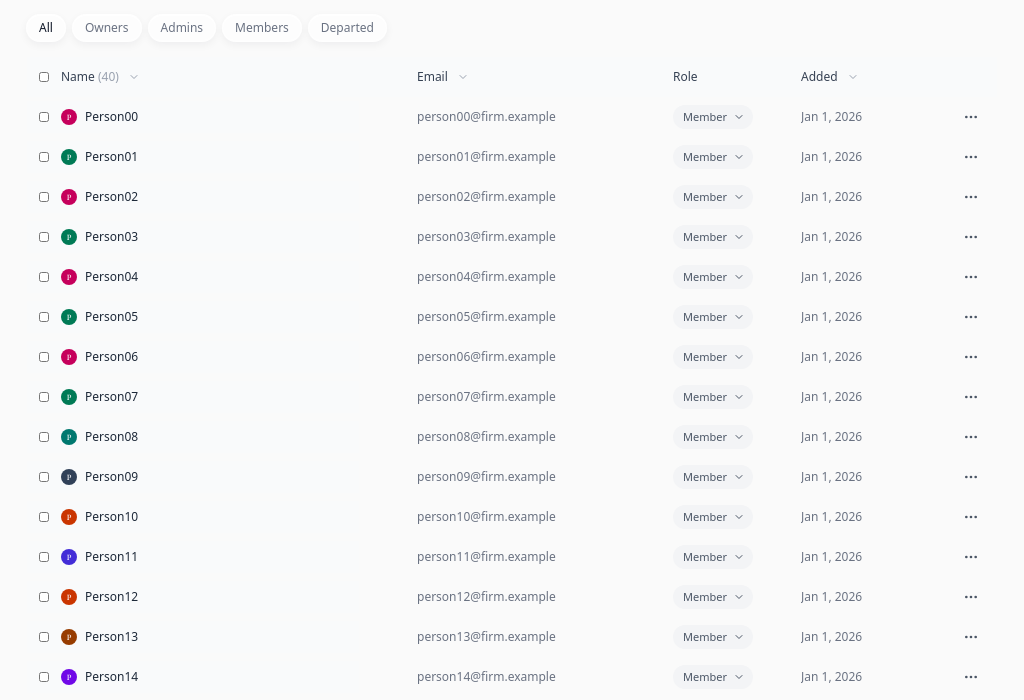
it: OrganizationMembers › the roster's order and pages › selects everyone who matches, drawn or not
Expected: the text "Person00" is shown, [85, 109, 138, 125]
Click the checkbox named "Select all people" at (44, 77), box [39, 72, 49, 82]
(page scrolled)
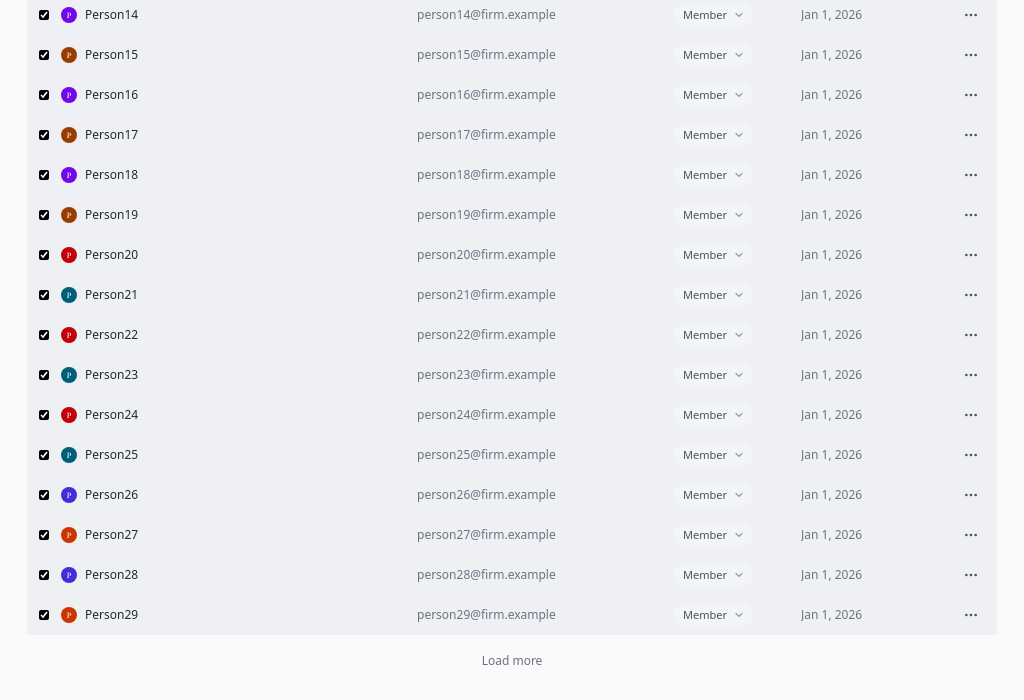
Click the button "Load more" at (512, 661), box [470, 647, 554, 675]
(page scrolled)
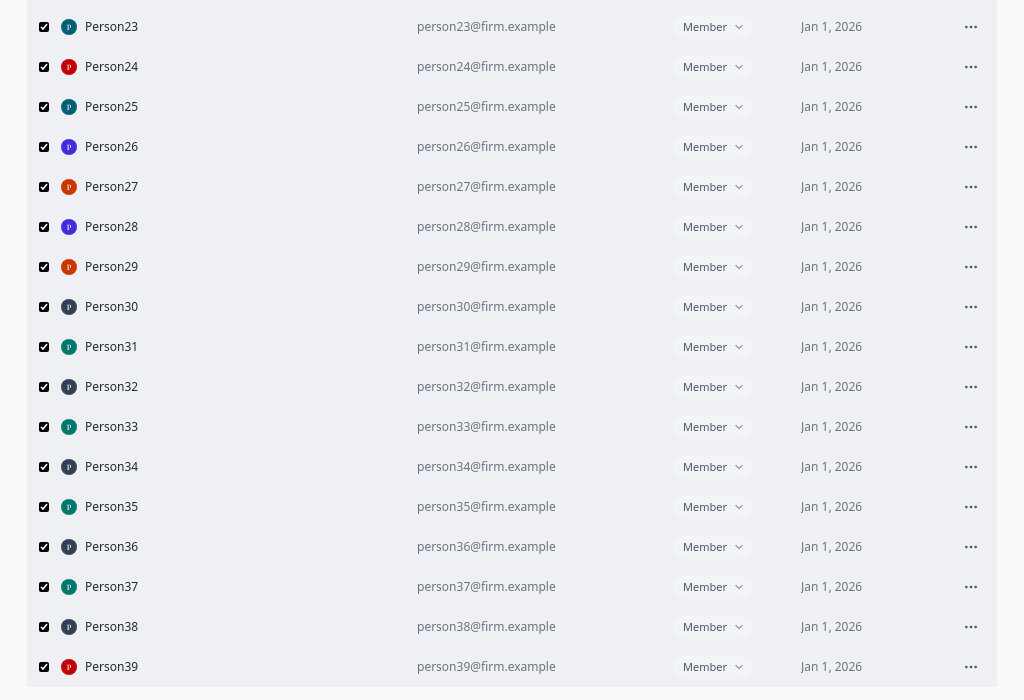
Now the checkbox named "Select Person39" is checked, box [39, 662, 49, 672]
